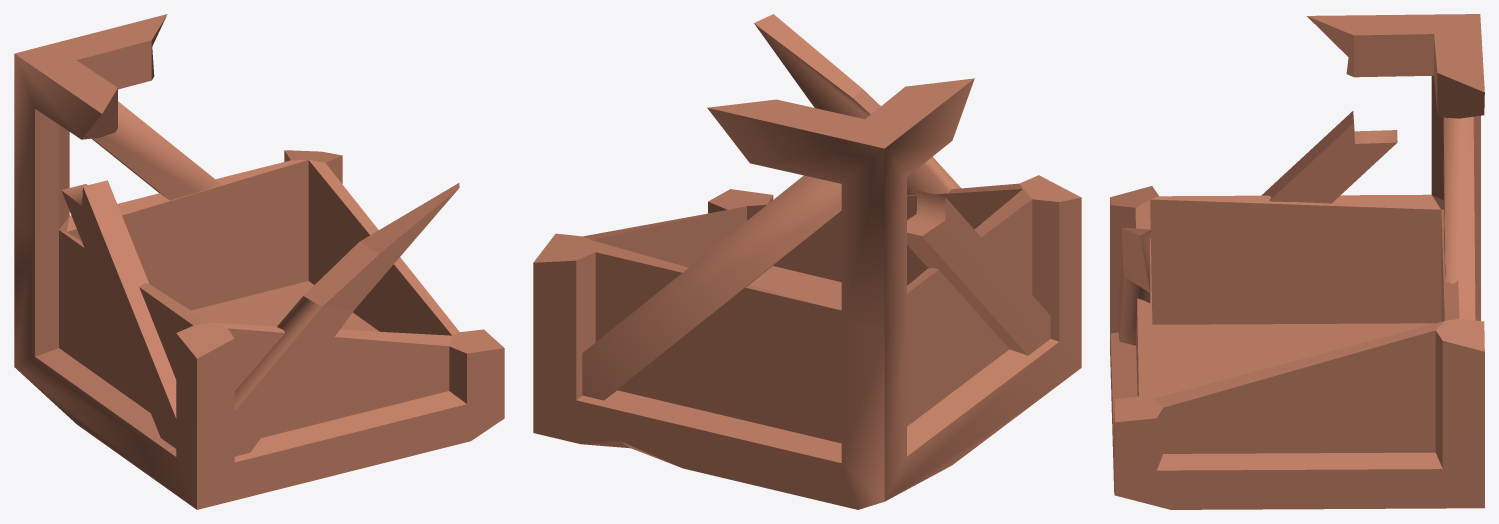
File: Box_Ruins_3.fbx
The picture shows the model from 3 angles, left to right: view 1: azimuth 30°, elevation 25°; view 2: azimuth 150°, elevation 25°; view 3: azimuth 270°, elevation 25°; orthographic projection. The views are drawn at different scales.
Visible parts, largest first — view 1: SM_Prop_Crate_Open_01.002; view 2: SM_Prop_Crate_Open_01.002; view 3: SM_Prop_Crate_Open_01.002.
Part boxes in pixels (x1=…): SM_Prop_Crate_Open_01.002: x1=14, y1=14, x2=504, y2=509; SM_Prop_Crate_Open_01.002: x1=533, y1=14, x2=1081, y2=509; SM_Prop_Crate_Open_01.002: x1=1110, y1=14, x2=1484, y2=509.
Size of the model in its own units: 82.83 by 82.4 by 82.84.
